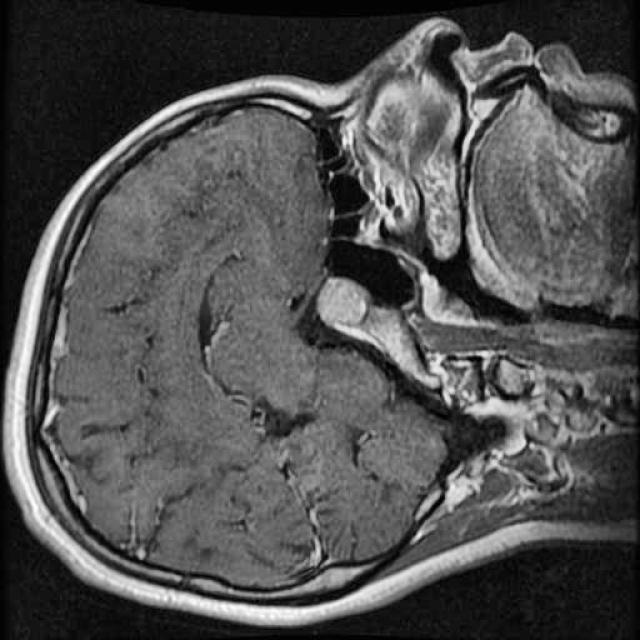Tumor: (306, 270, 379, 339)
